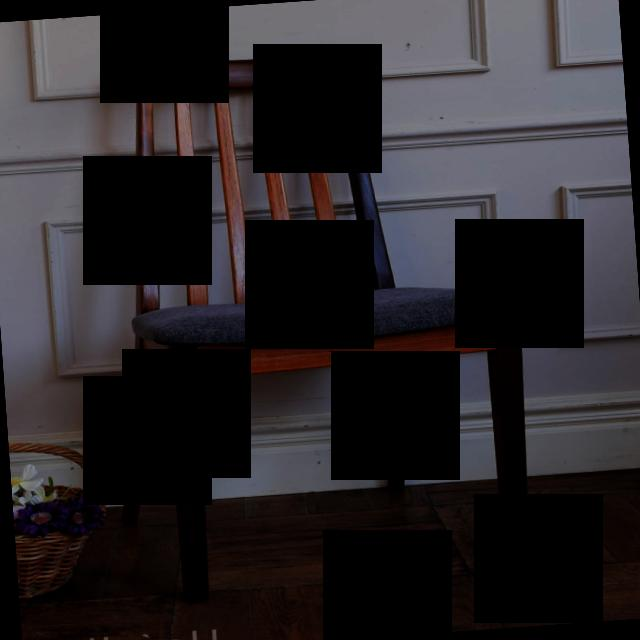chair vintage: (84, 27, 555, 611)
